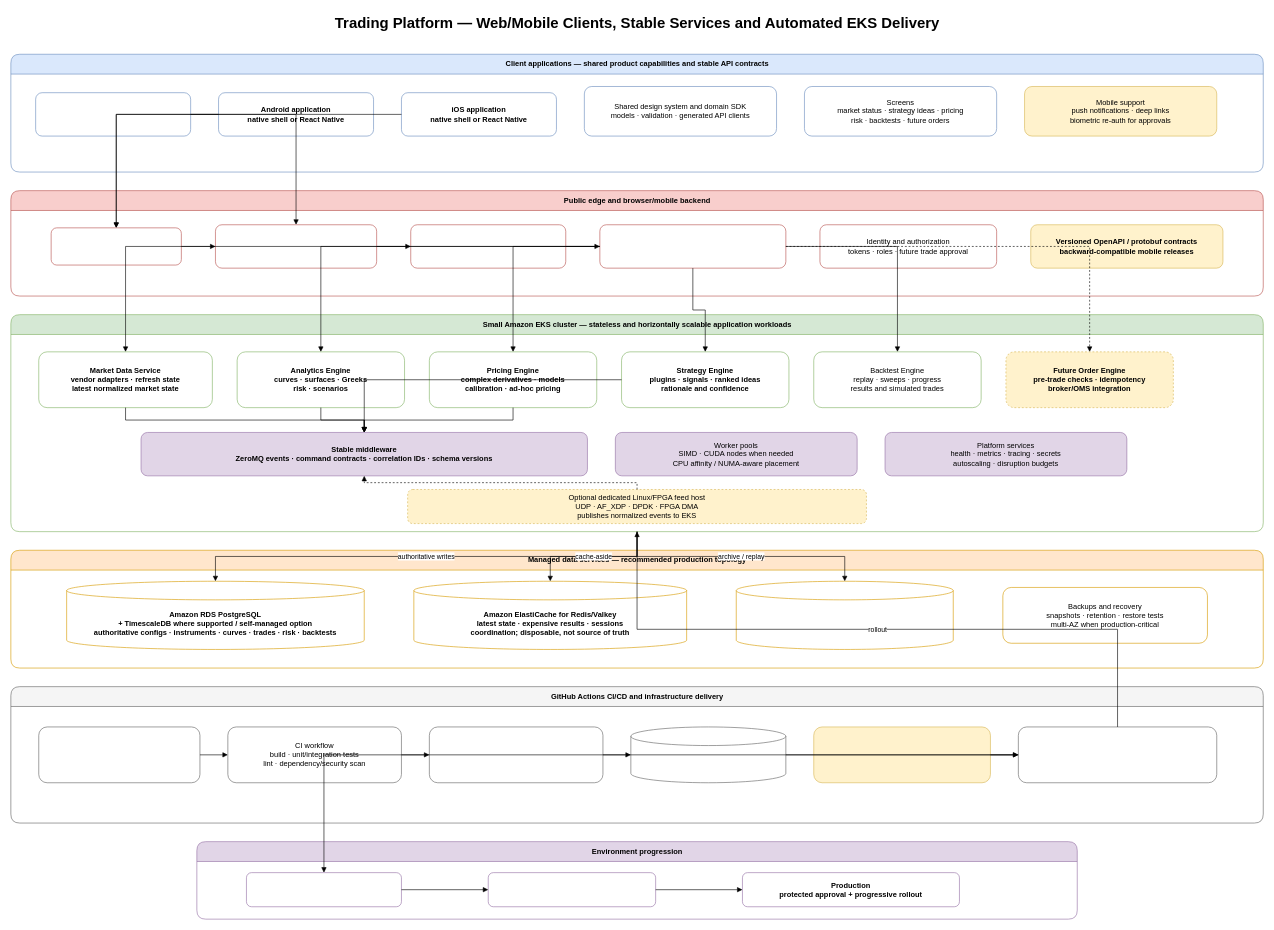
Image size: 1274x930. Some labels were removed from this diagram. The shapes that lost their labels are listed below. From the top down, each one's centre as x and y in pixels, then its label:
point 113,114: Responsive web application React + TypeScript
point 116,246: Route 53 / TLS
point 296,246: CloudFront + WAF web assets and edge protection
point 488,246: Application Load Balancer EKS ingress
point 692,246: API gateway / backend-for-frontend REST/gRPC · WebSocket/SSE
point 844,615: Amazon S3 Parquet · JSONL · PCAP · reports immutable replay and archive
point 119,754: GitHub repository code · Dockerfiles · manifests Helm/Kustomize · Terraform
point 516,754: Container build immutable image tag = Git SHA SBOM and optional signing
point 708,754: Amazon ECR versioned container images
point 901,754: GitHub OIDC → AWS IAM short-lived credentials no long-lived AWS secrets
point 1117,754: CD workflow database migration job Helm rollout · health checks · rollback
point 323,889: Development automatic deploy
point 572,889: Staging integration + smoke tests
